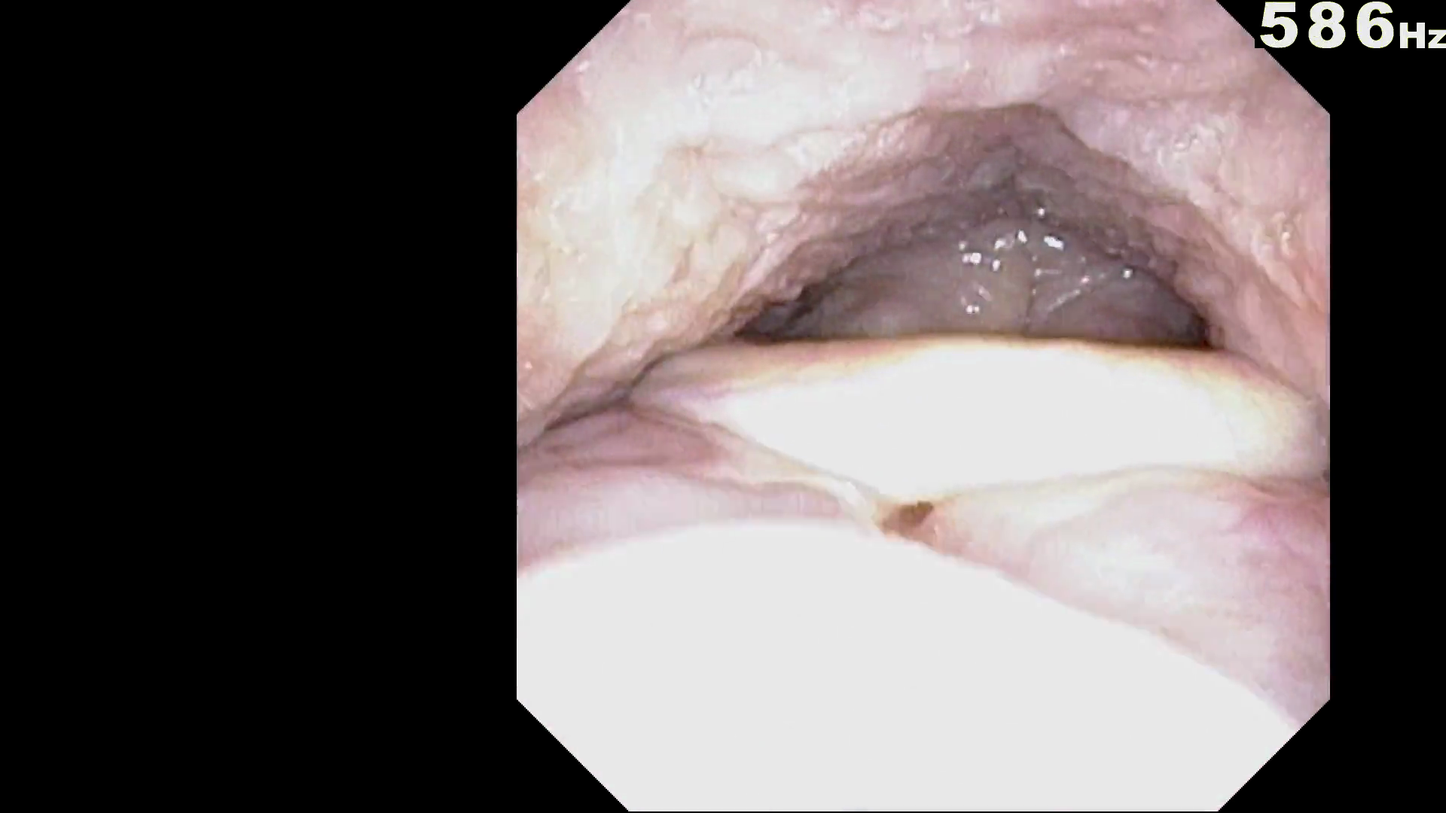epiglottis: (645, 264, 1297, 572)
